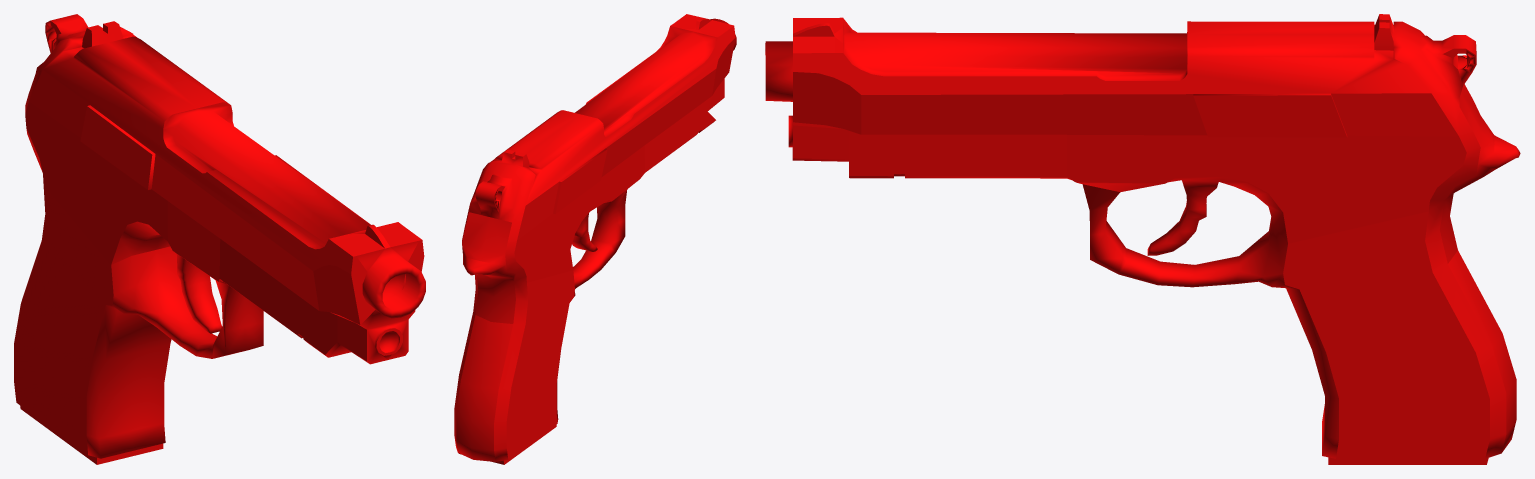
File: gun.glb
3 views of the same model, side by side, from view 1: azimuth 30°, elevation 25°; view 2: azimuth 150°, elevation 25°; view 3: azimuth 270°, elevation 25° (orthographic). The views are drawn at different scales.
Parts seen in each view (by area): view 1: Cube.001; view 2: Cube.001; view 3: Cube.001.
Part boxes in pixels (box(x1,y1,x2,y2)): Cube.001: box(14, 14, 425, 464); Cube.001: box(454, 14, 736, 464); Cube.001: box(765, 14, 1520, 464).
Bounding box in the file's own units: 0.1728 × 0.7944 × 1.27.
